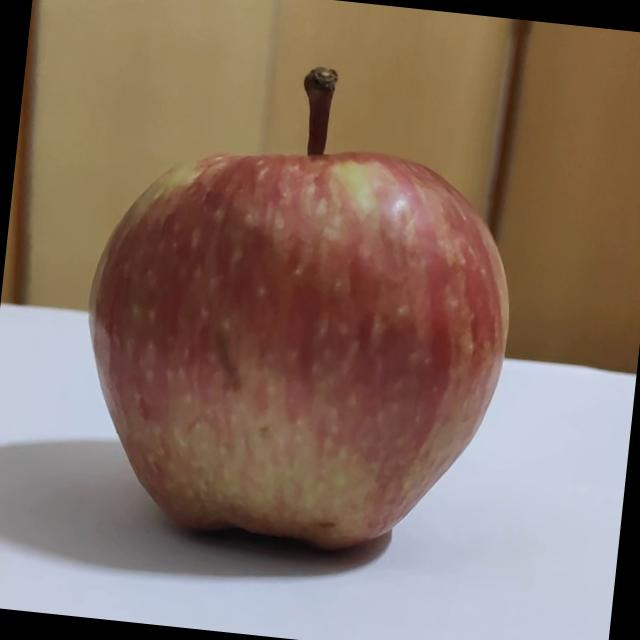apple: (59, 34, 532, 568)
